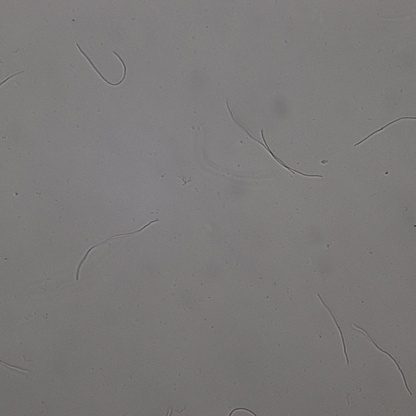Sensitive: (226, 101, 322, 180), (75, 218, 156, 280), (356, 326, 413, 396), (317, 293, 350, 365), (77, 44, 127, 86), (355, 115, 416, 146), (1, 359, 30, 374), (1, 71, 23, 90), (227, 406, 258, 416)
